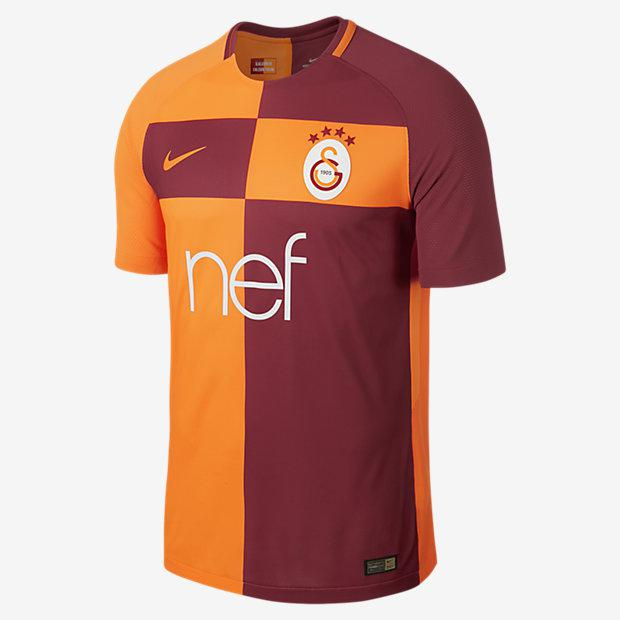teeshirt: (94, 16, 521, 596)
